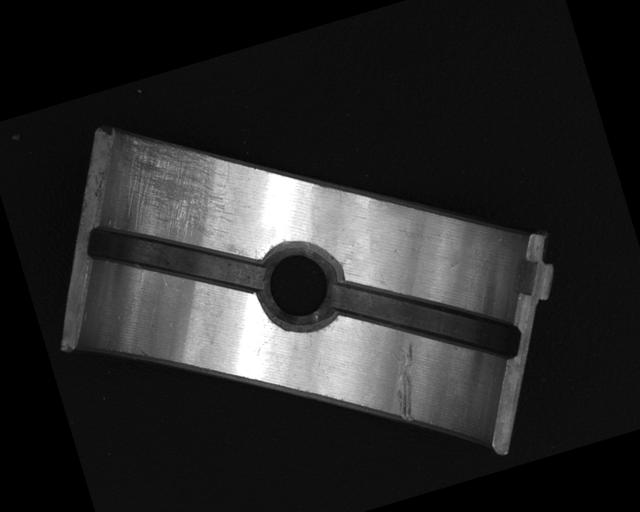gap: (331, 237, 524, 401), (80, 185, 270, 334)
hole: (248, 230, 348, 337)
nick: (378, 340, 436, 425)
scratch: (104, 116, 246, 261)
